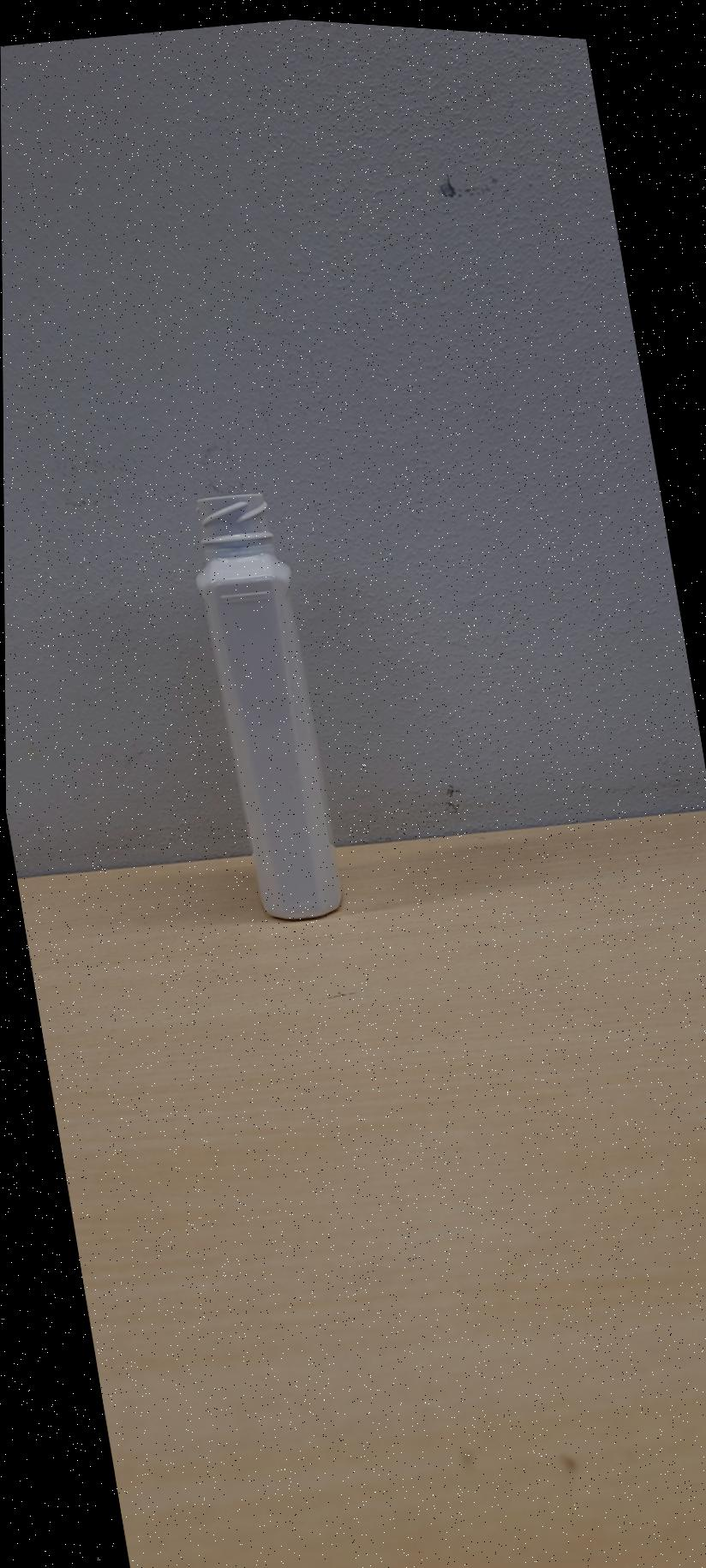bottle: (197, 489, 341, 921)
